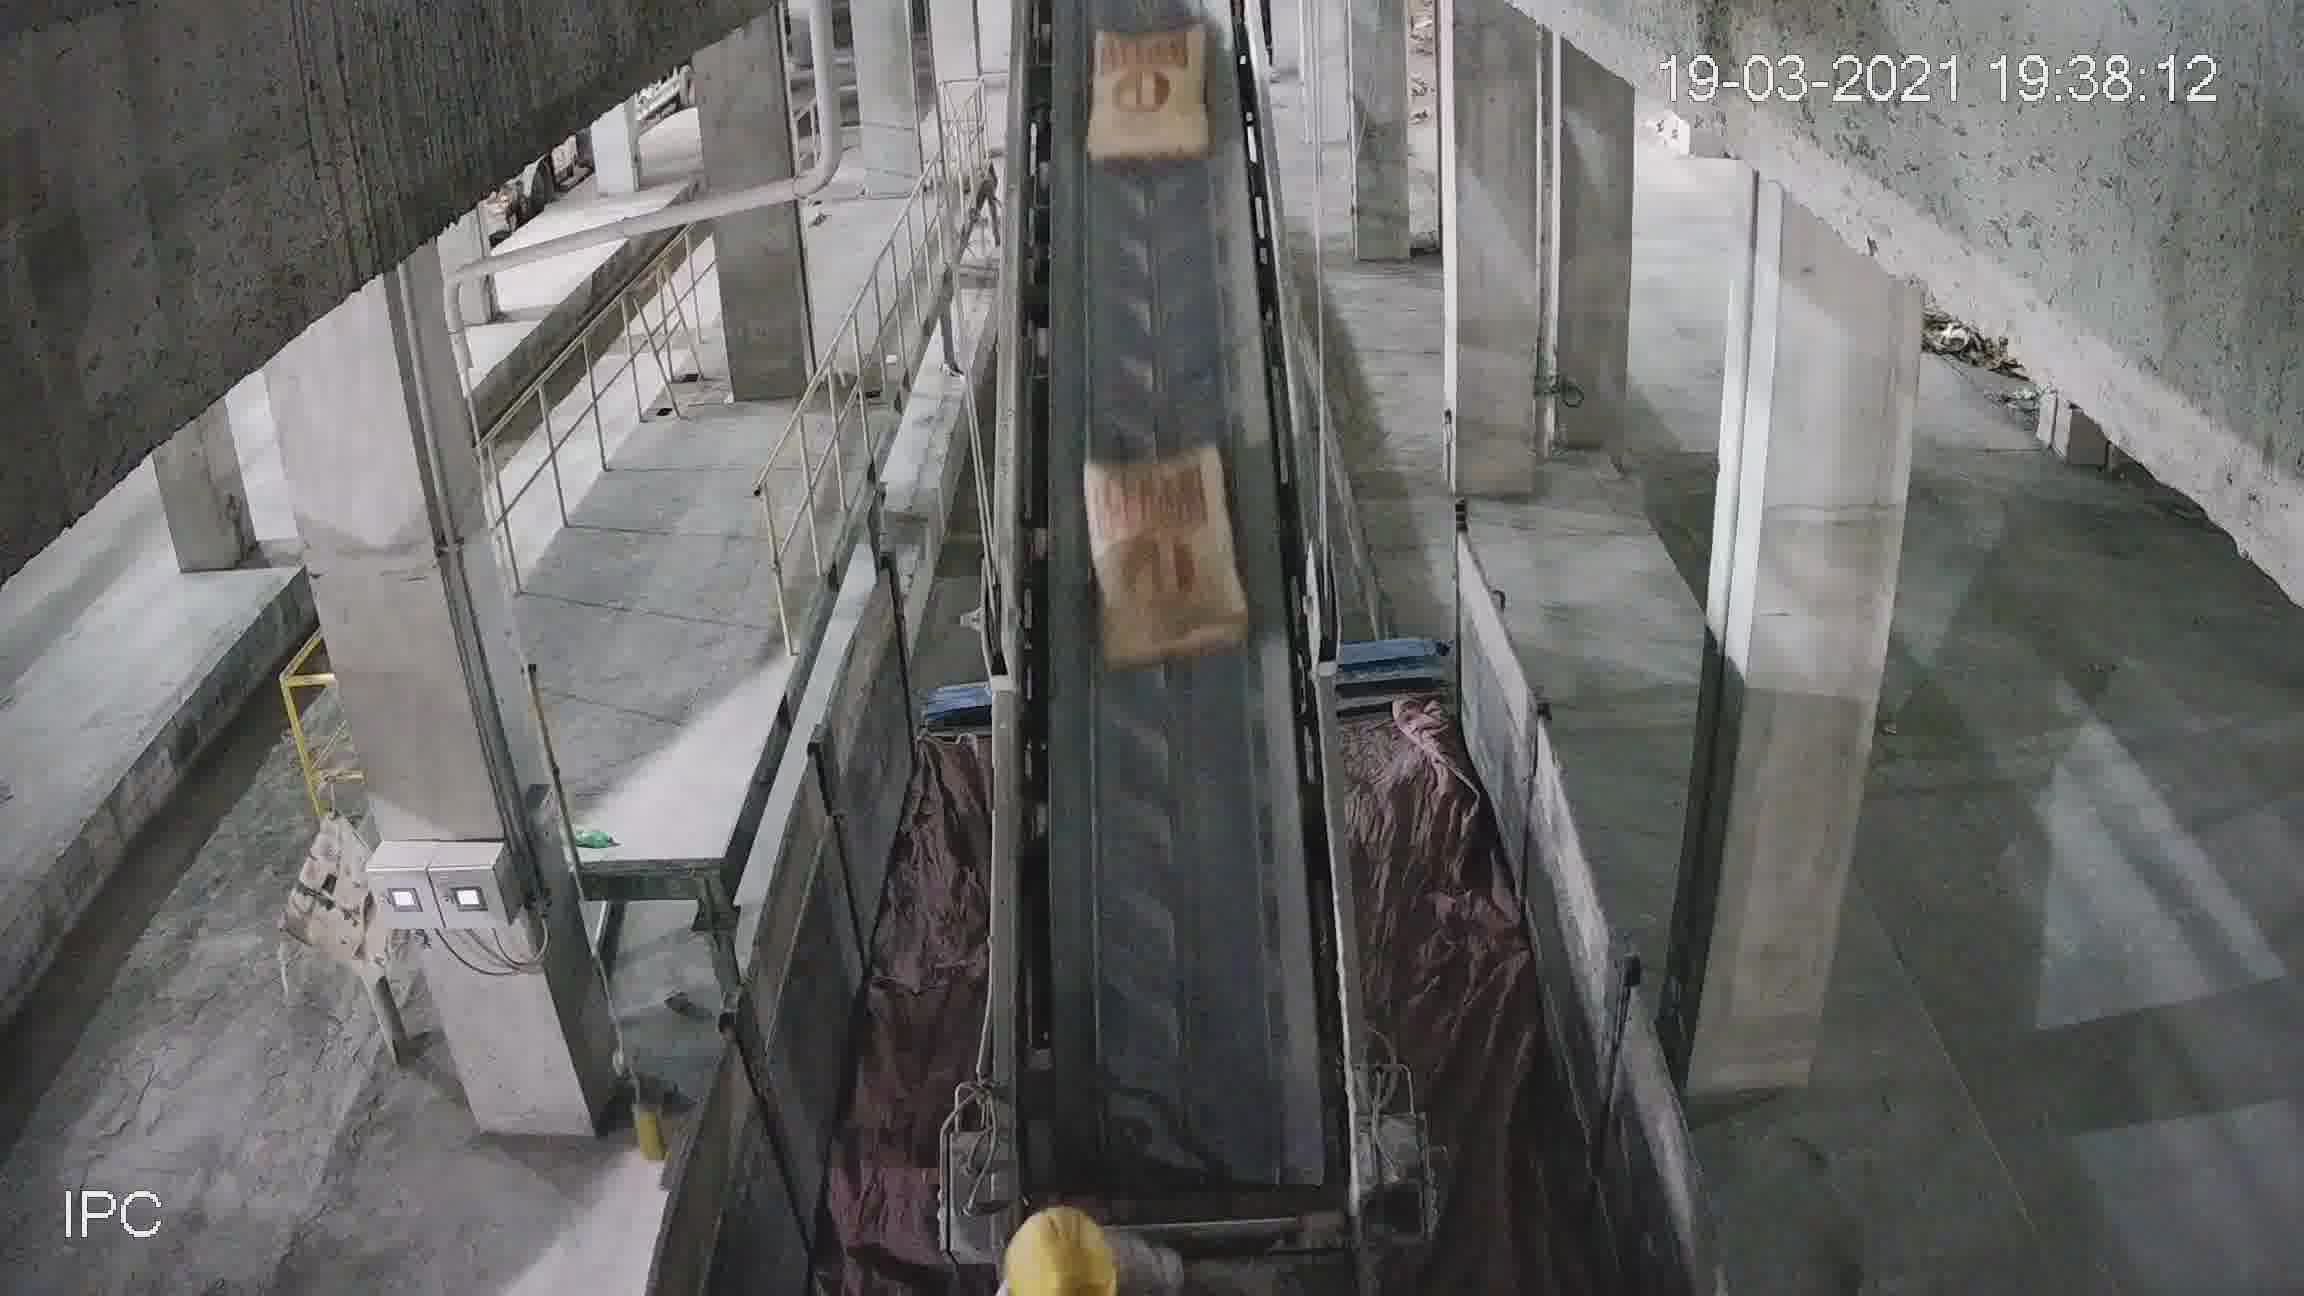bag: (1090, 445, 1237, 668), (1086, 24, 1209, 158)
belt: (994, 108, 1340, 1135)
